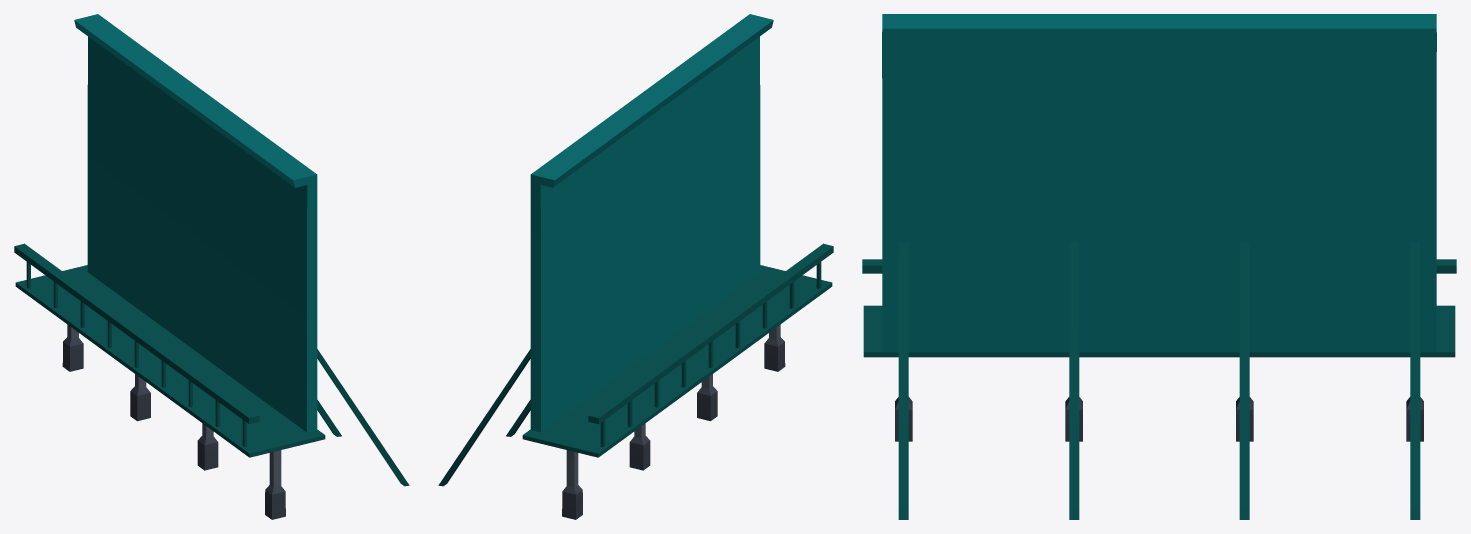
File: Bilboard_1_C.fbx
The picture shows the model from 3 angles, left to right: view 1: azimuth 30°, elevation 25°; view 2: azimuth 150°, elevation 25°; view 3: azimuth 270°, elevation 25°; orthographic projection. The views are drawn at different scales.
Parts seen in each view (by area): view 1: Bilboard_1_C; view 2: Bilboard_1_C; view 3: Bilboard_1_C.
Boxes of the visible parts, bbox=[...] form: Bilboard_1_C: bbox=[14, 14, 409, 519]; Bilboard_1_C: bbox=[438, 14, 833, 519]; Bilboard_1_C: bbox=[862, 14, 1456, 519].
Bounding box in the file's own units: 128 × 238 × 298.
